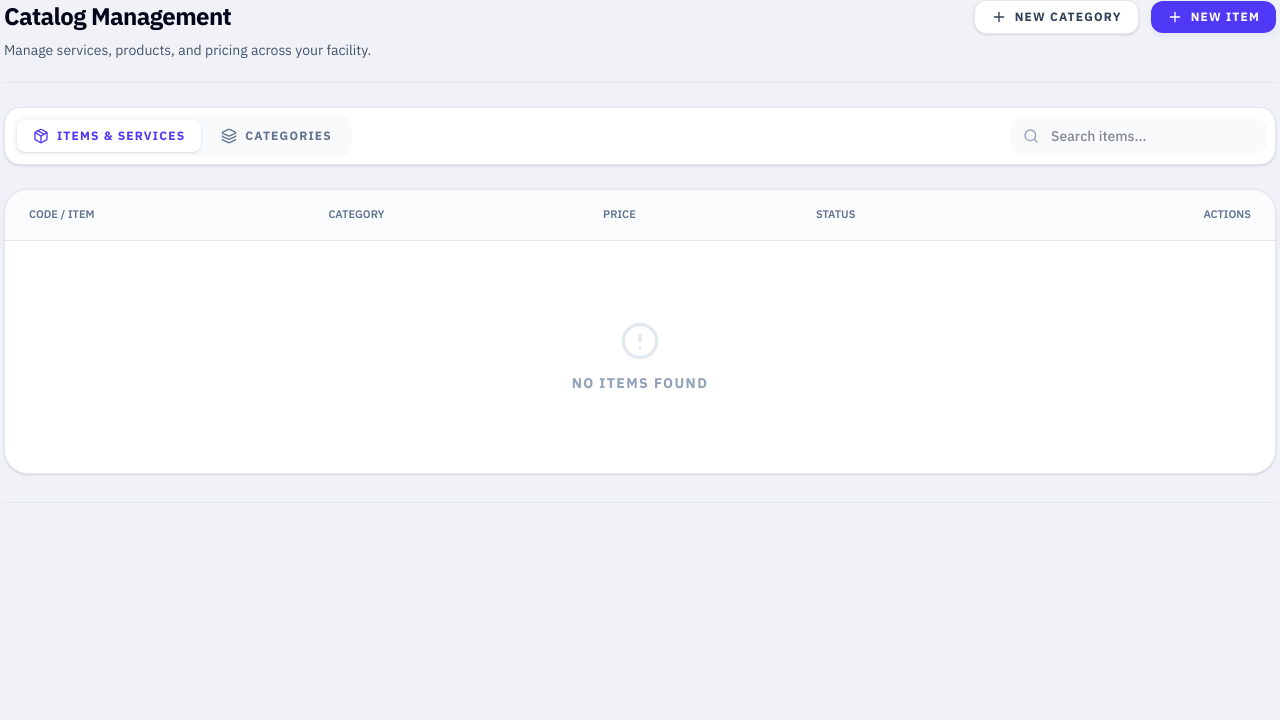
it: CatalogManagementPage save error feedback and dead-action removal › surfaces createItem error in the modal and keeps the modal open
// Open the New Item modal
Click the button "New Item" at (1213, 17), box top-left (1151, 1), bottom-right (1276, 33)
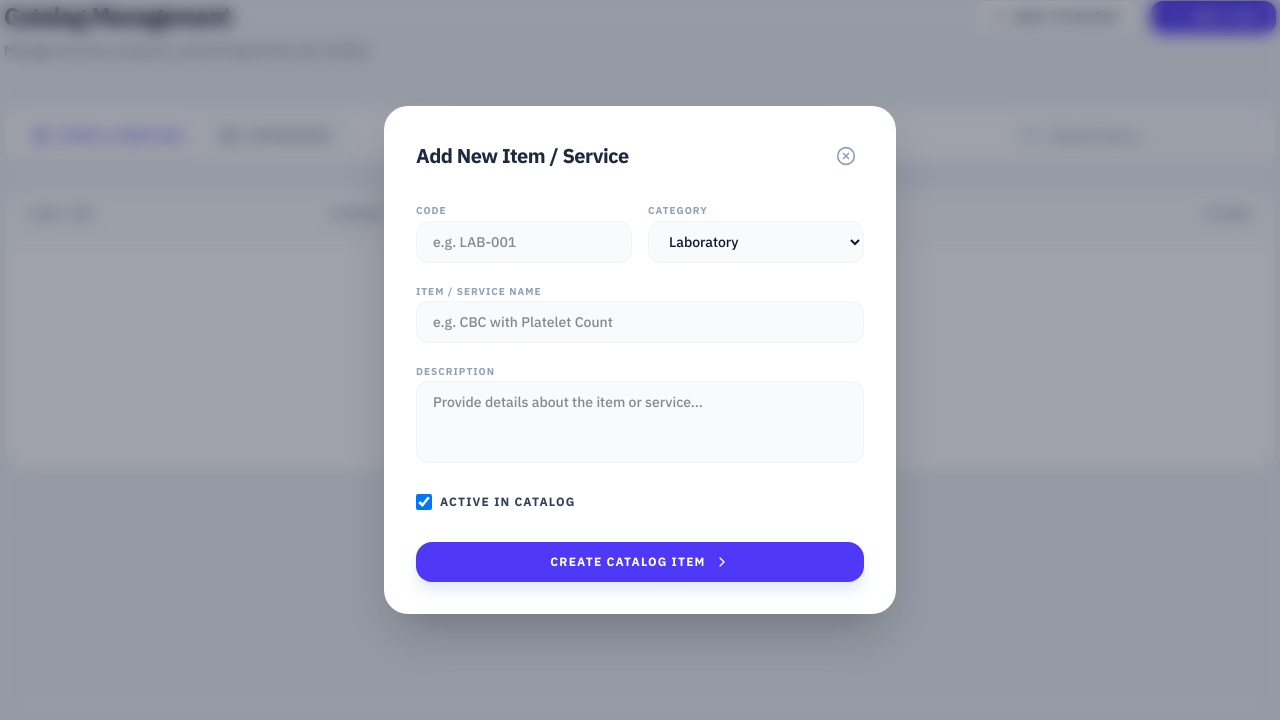
expect the heading "Add New Item / Service" is shown: met, box top-left (416, 142), bottom-right (629, 170)
// Fill in the required fields
Type "TEST-001" into the field with placeholder "e.g. LAB-001" at (524, 242), box top-left (416, 221), bottom-right (632, 263)
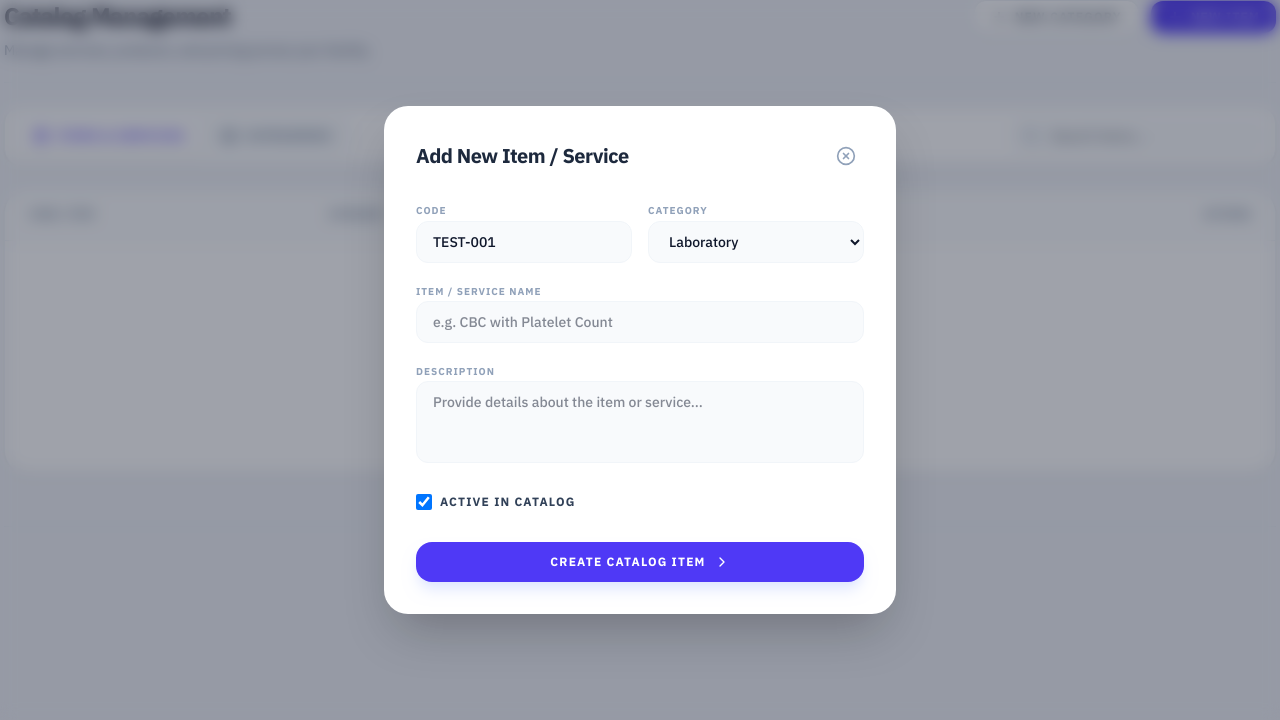
Type "Test Item" into the field with placeholder "e.g. CBC with Platelet Count" at (640, 322), box top-left (416, 301), bottom-right (864, 343)
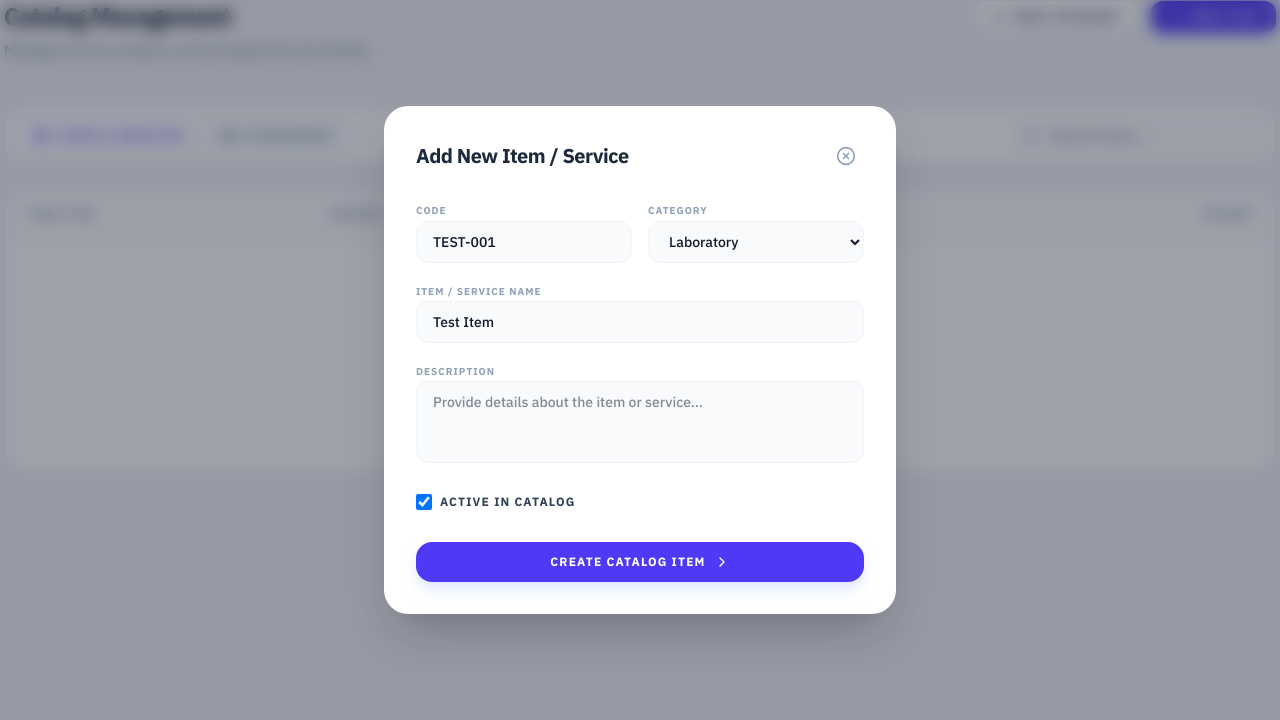
// Submit the form
Click the button "Create Catalog Item" at (640, 562), box top-left (416, 542), bottom-right (864, 582)
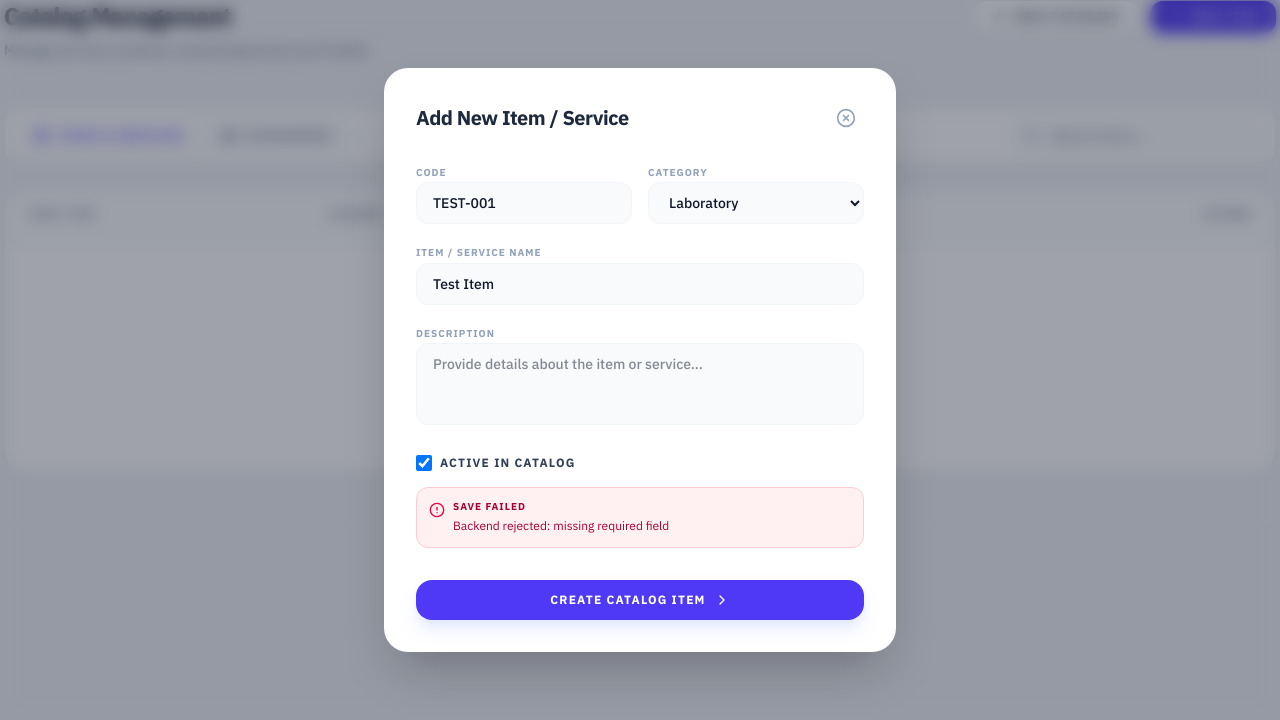
expect the heading "Add New Item / Service" is shown: met, box top-left (416, 104), bottom-right (629, 132)
expect the text "Backend rejected: missing required field" is shown: met, box top-left (453, 516), bottom-right (669, 535)
expect the message "Save failed Backend rejected: missing required field" is shown: met, box top-left (416, 487), bottom-right (864, 548)
